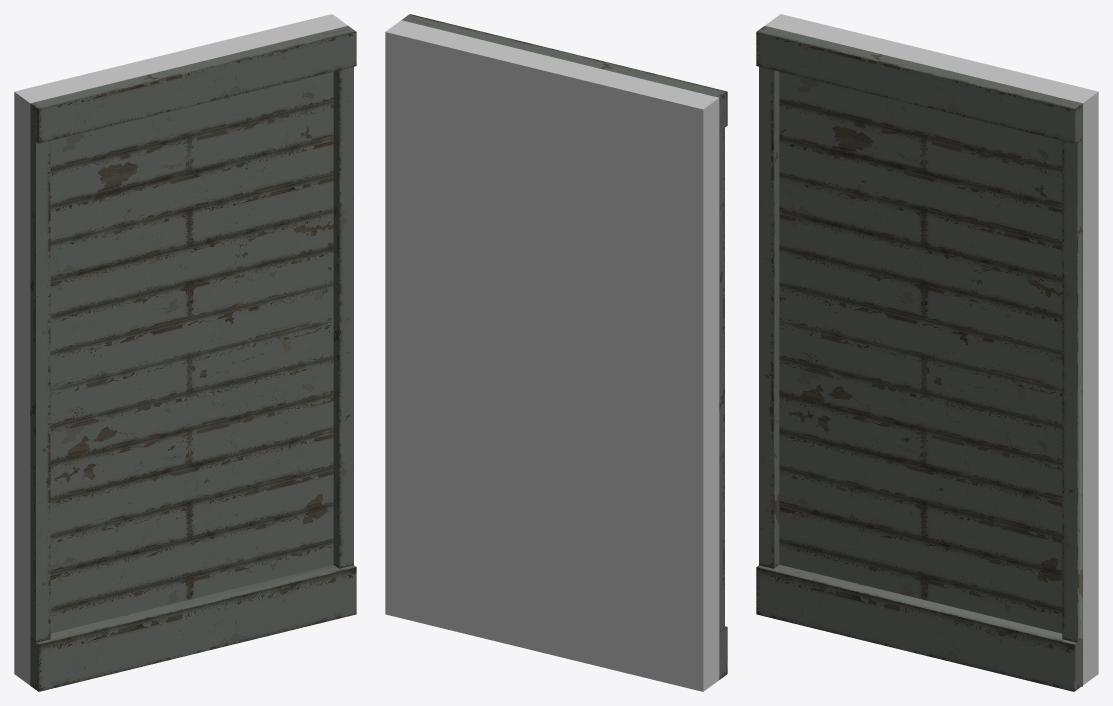
Rendered from SM_EWall200.FBX.
The picture shows the model from 3 angles, left to right: view 1: azimuth 30°, elevation 25°; view 2: azimuth 150°, elevation 25°; view 3: azimuth 330°, elevation 25°; orthographic projection.
Parts seen in each view (by area): view 1: SM_EWall200; view 2: SM_EWall200; view 3: SM_EWall200.
Part boxes in pixels (left/top/right/bottom): SM_EWall200: left=14, top=14, right=356, bottom=691; SM_EWall200: left=385, top=14, right=727, bottom=691; SM_EWall200: left=756, top=14, right=1098, bottom=691.
Size of the model in its own units: 200 by 351 by 26.73.
